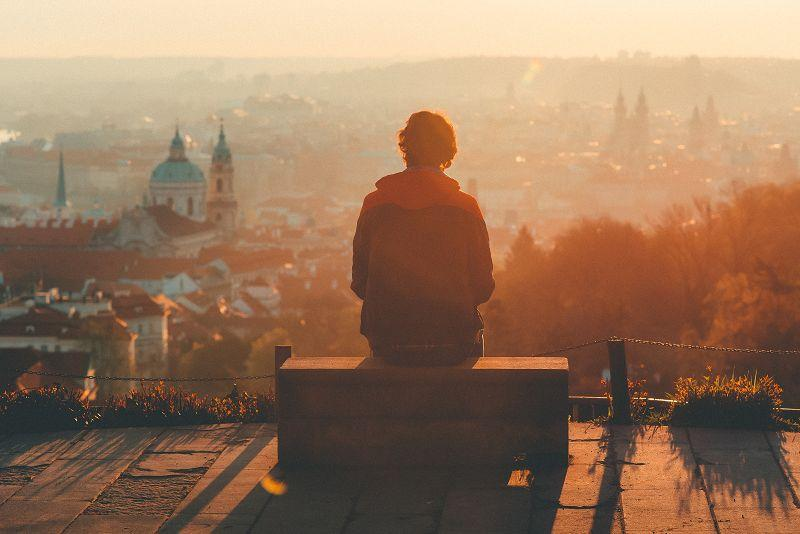airplane: (6, 143, 236, 257), (72, 191, 231, 256)
apple: (260, 472, 286, 495)
bed: (280, 208, 562, 514), (325, 125, 514, 474), (269, 353, 571, 525)
bench: (307, 209, 530, 473), (268, 348, 572, 522)
bird: (45, 146, 229, 258), (72, 191, 231, 256), (87, 174, 188, 249)
boat: (256, 310, 662, 524), (280, 208, 562, 514), (343, 108, 499, 383), (7, 161, 237, 260), (63, 190, 229, 258), (47, 145, 67, 208)
bowl: (260, 468, 287, 495)
car: (265, 349, 567, 528)
chair: (268, 348, 572, 522)
clock: (213, 176, 228, 194)
couch: (297, 209, 564, 520), (265, 353, 572, 524)
dining table: (265, 345, 569, 525)
kite: (72, 191, 231, 256)
oven: (268, 346, 570, 526)
person: (327, 145, 540, 506), (336, 120, 636, 354), (345, 108, 492, 372), (329, 275, 493, 509), (63, 190, 229, 258), (223, 247, 294, 340), (86, 200, 189, 254), (231, 268, 283, 319), (152, 291, 180, 336), (15, 359, 46, 389), (218, 295, 251, 317), (211, 295, 236, 317), (33, 201, 49, 228), (18, 207, 38, 227), (58, 205, 73, 229), (246, 395, 258, 422)
potted plant: (260, 464, 287, 495)
sports ball: (260, 472, 286, 495)
suitcase: (314, 235, 554, 493), (271, 347, 571, 523), (309, 313, 569, 438)
train: (268, 346, 570, 526)
truck: (269, 347, 568, 525)
tv: (271, 350, 566, 519)
umbrella: (325, 118, 787, 464), (277, 281, 783, 525), (477, 153, 800, 386), (345, 109, 492, 367), (174, 288, 212, 316), (159, 272, 198, 296), (18, 207, 38, 227)
vase: (260, 468, 287, 495)
